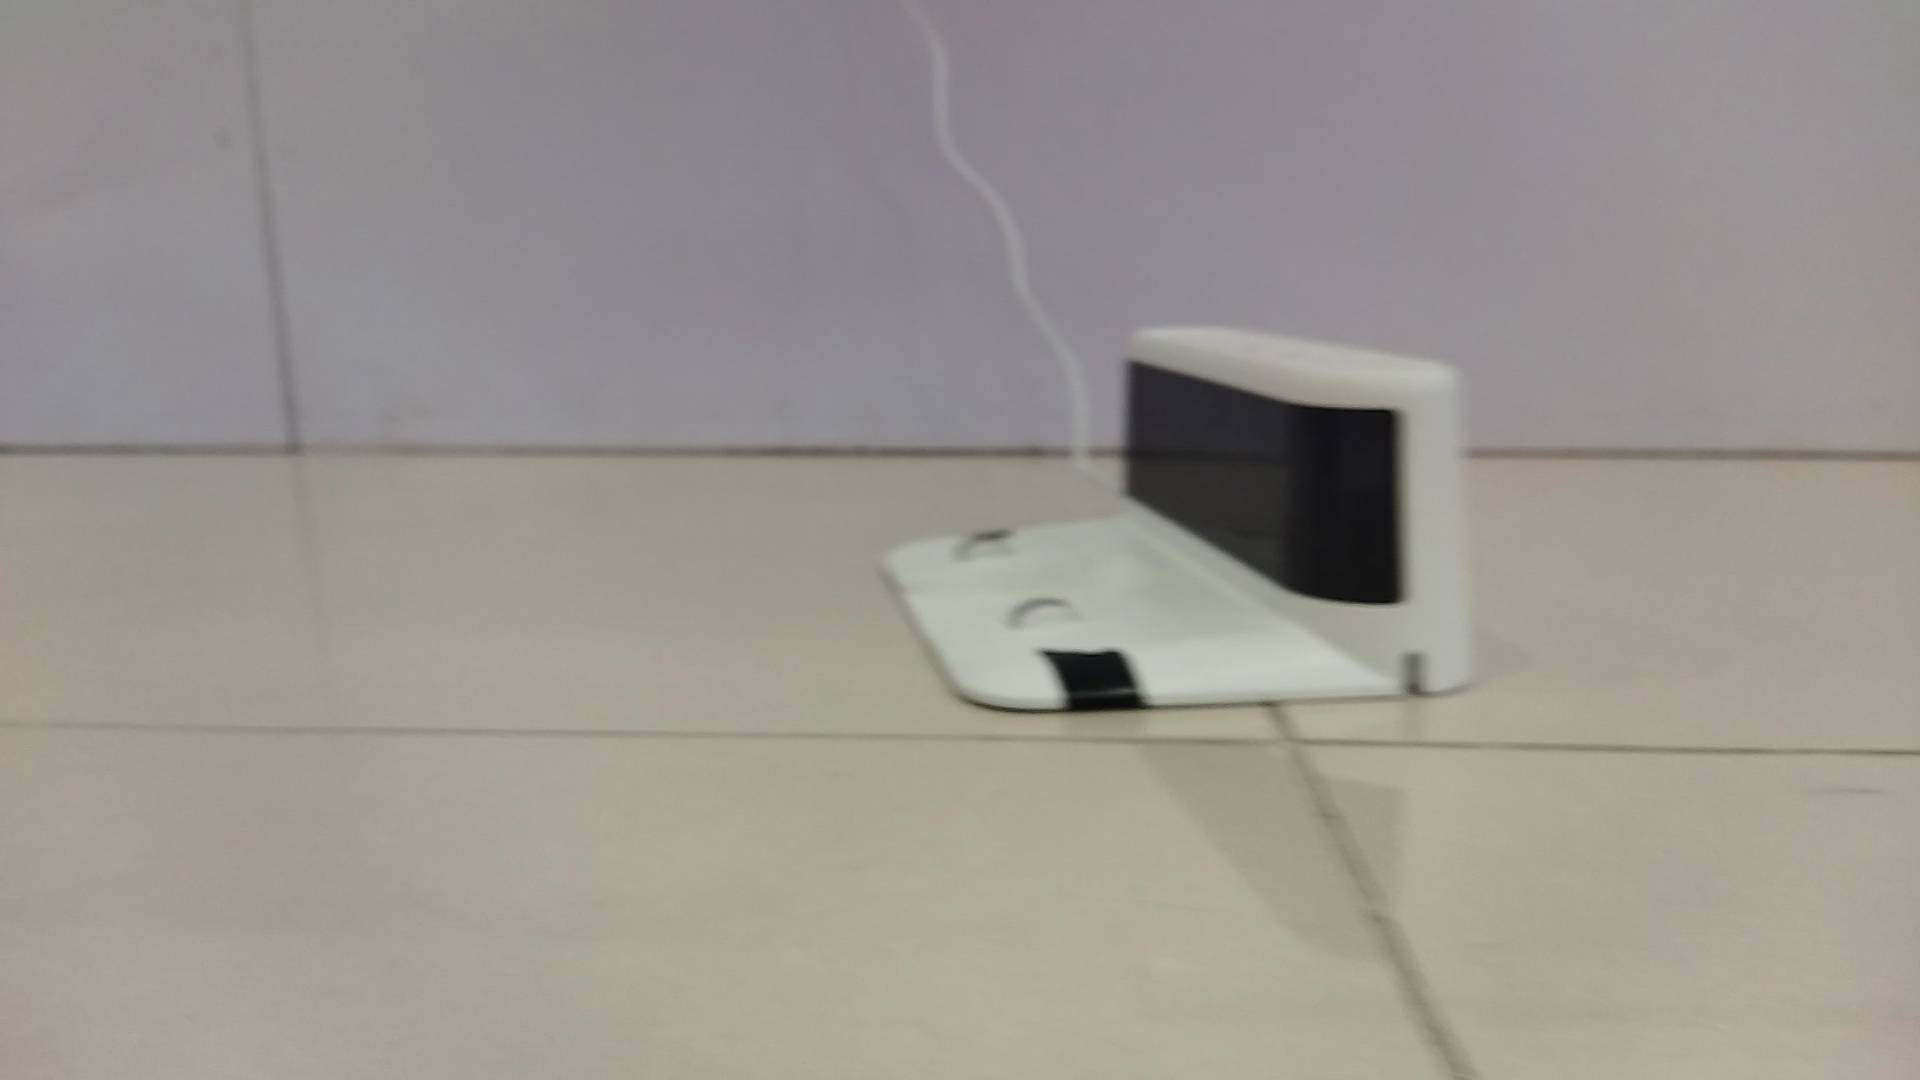recharge seat: (880, 323, 1472, 711)
